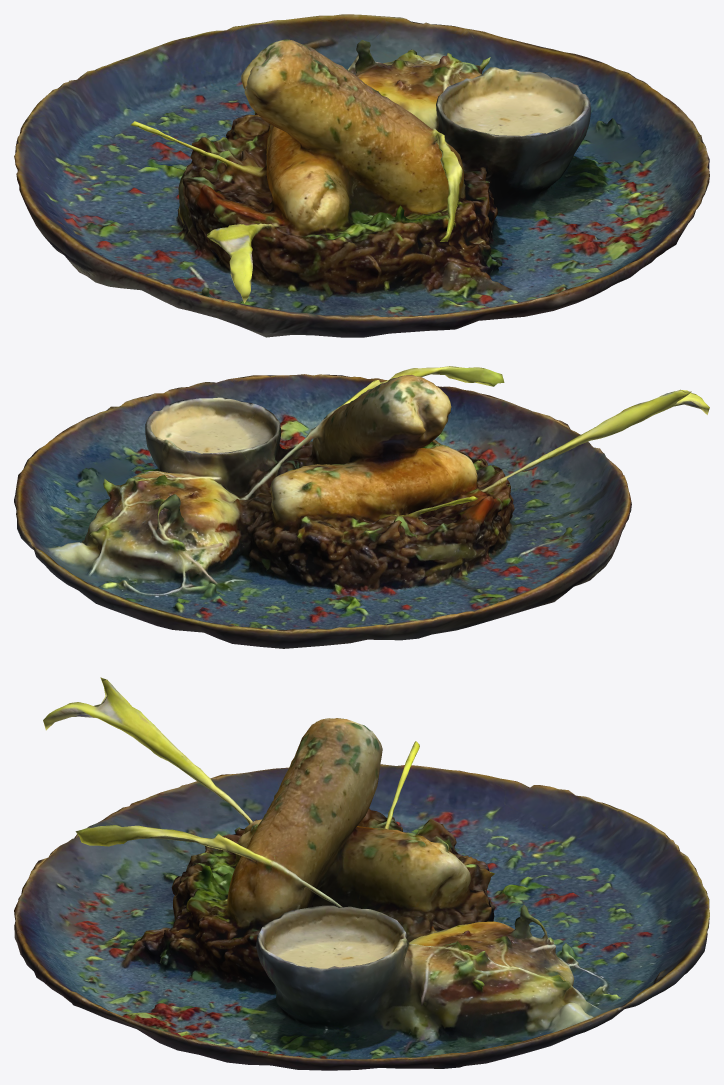
The model's file is paupiettes-de-poulet.ar.glb.
3 renders of one model, top to bottom at view 1: azimuth 30°, elevation 25°; view 2: azimuth 150°, elevation 25°; view 3: azimuth 270°, elevation 25°, orthographic. The views are drawn at different scales.
Parts seen in each view (by area): view 1: /ObjectCapture/Geometry/Mesh; view 2: /ObjectCapture/Geometry/Mesh; view 3: /ObjectCapture/Geometry/Mesh.
Boxes of the visible parts, x1=… form: /ObjectCapture/Geometry/Mesh: x1=14, y1=14, x2=709, y2=337; /ObjectCapture/Geometry/Mesh: x1=14, y1=366, x2=709, y2=648; /ObjectCapture/Geometry/Mesh: x1=14, y1=677, x2=709, y2=1070.
Size of the model in its own units: 0.27 by 0.0859 by 0.2715.
Materials: 1 (1 with a texture image).
